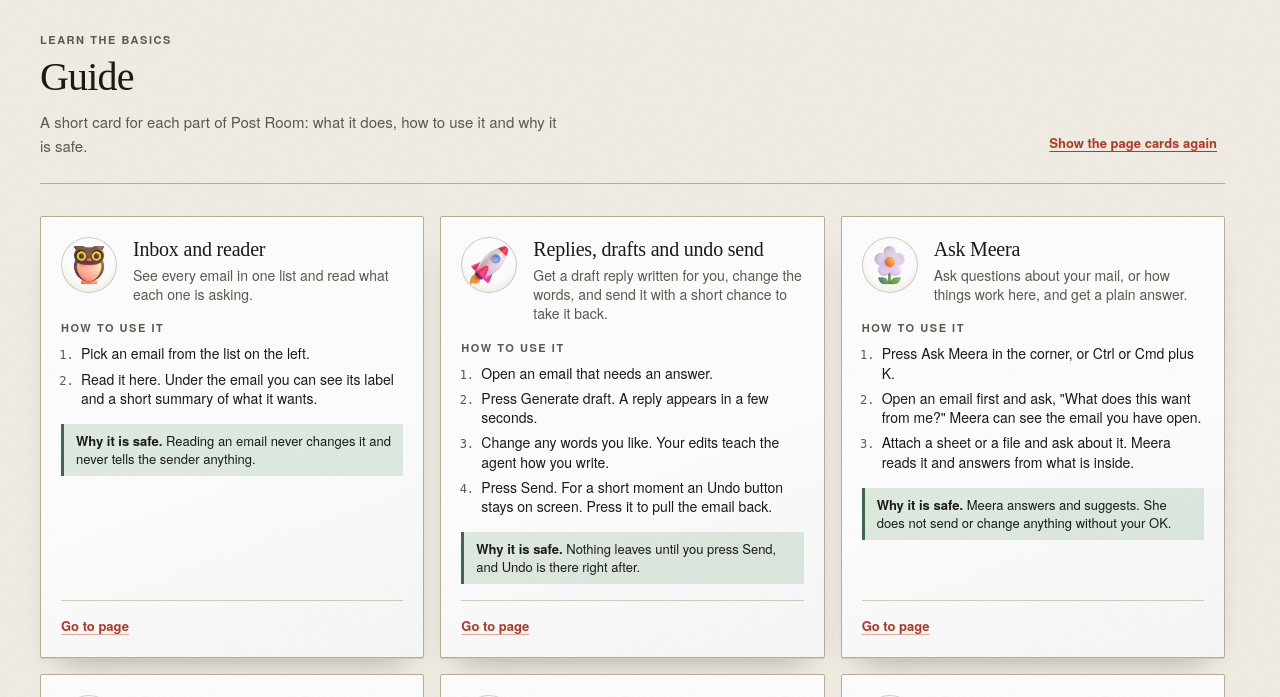
Test: Guide page › brings dismissed page cards back
This screenshot has width=1280, height=697.
Click the button "Show the page cards again": click(1133, 143) [1041,127,1225,159]
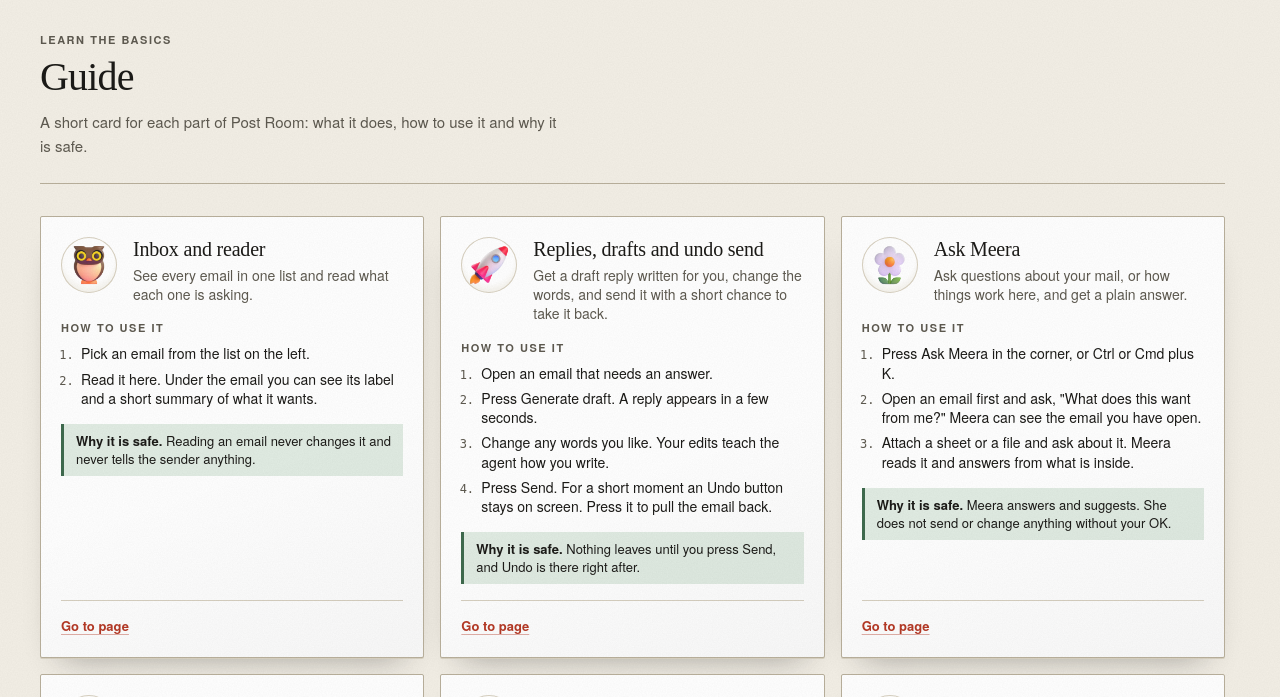
Result: the button "Show the page cards again" is gone
